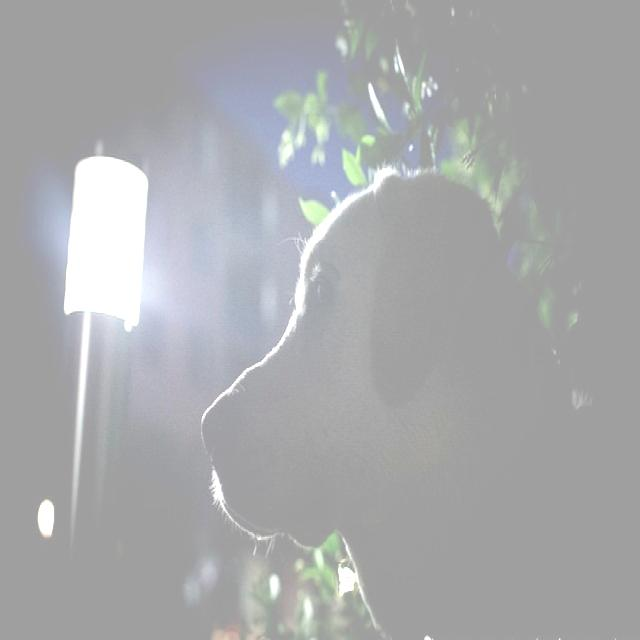Dog: (200, 173, 630, 640)
